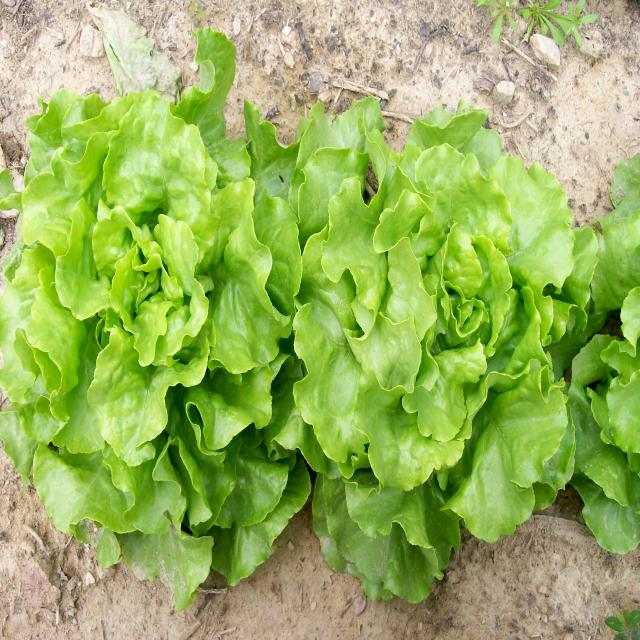Lettuce head: (0, 101, 287, 588), (299, 146, 594, 584)
